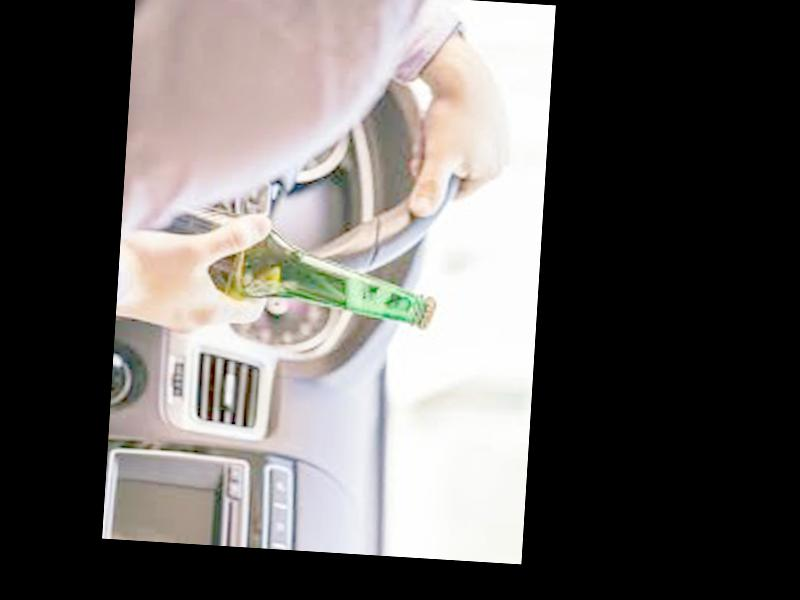Beer: (129, 197, 443, 331)
